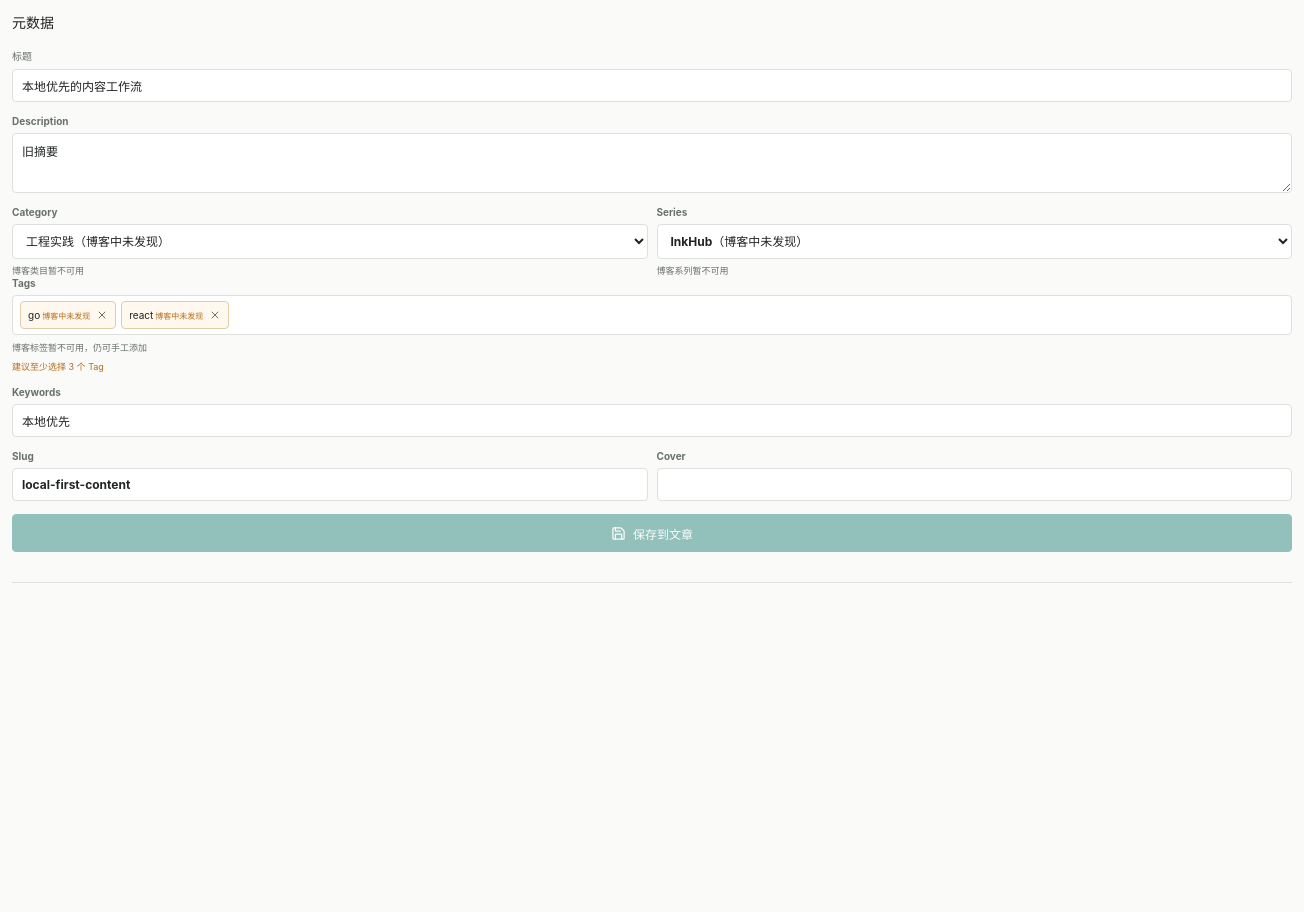
Scenario: 保存元数据前展示字段级变更摘要
Replace the text in the text box labelled "Description" with "新摘要" at (652, 163), box [12,133,1292,193]
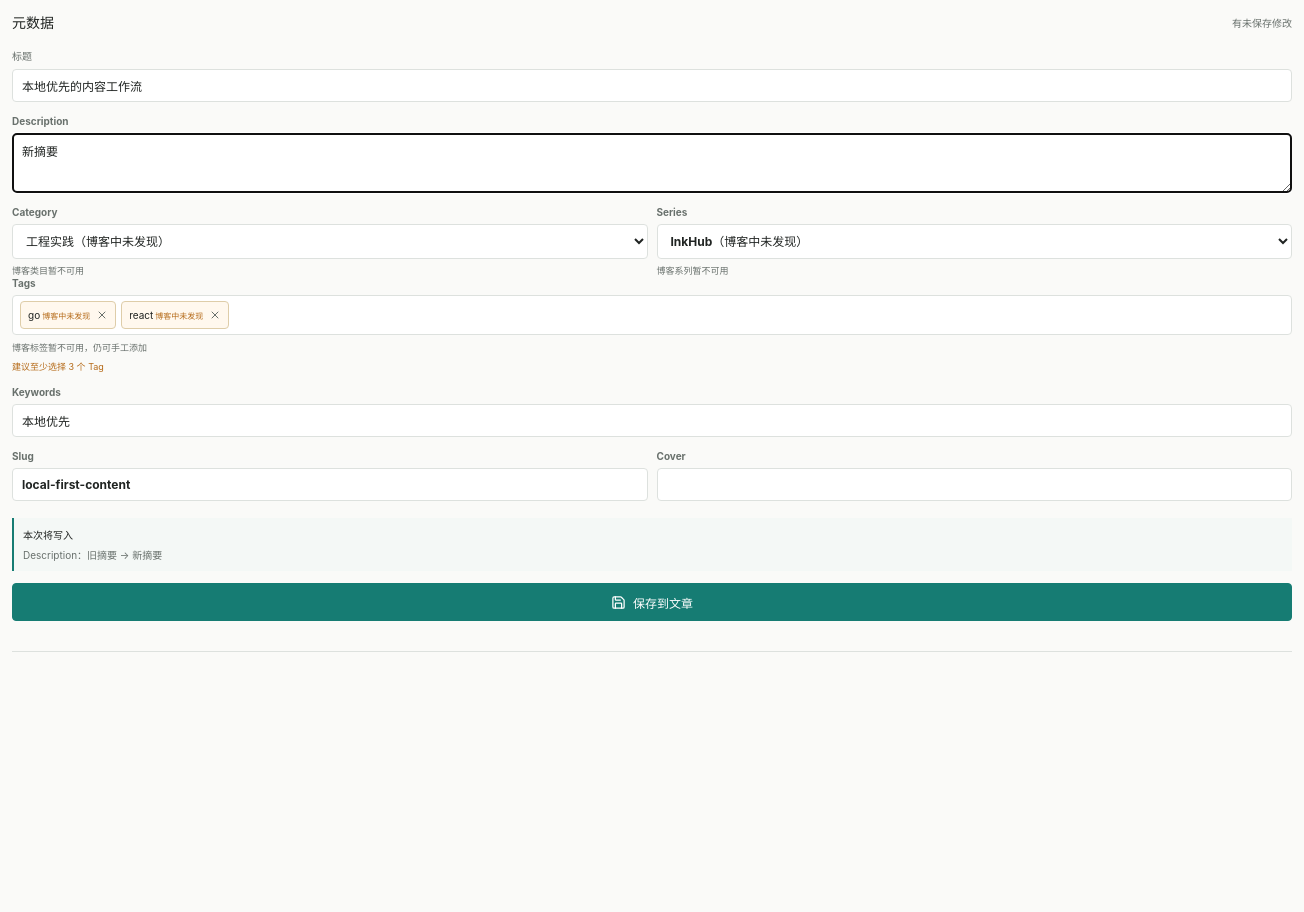
expect the text "Description：旧摘要 → 新摘要" is shown: met, box [23,549,162,561]
